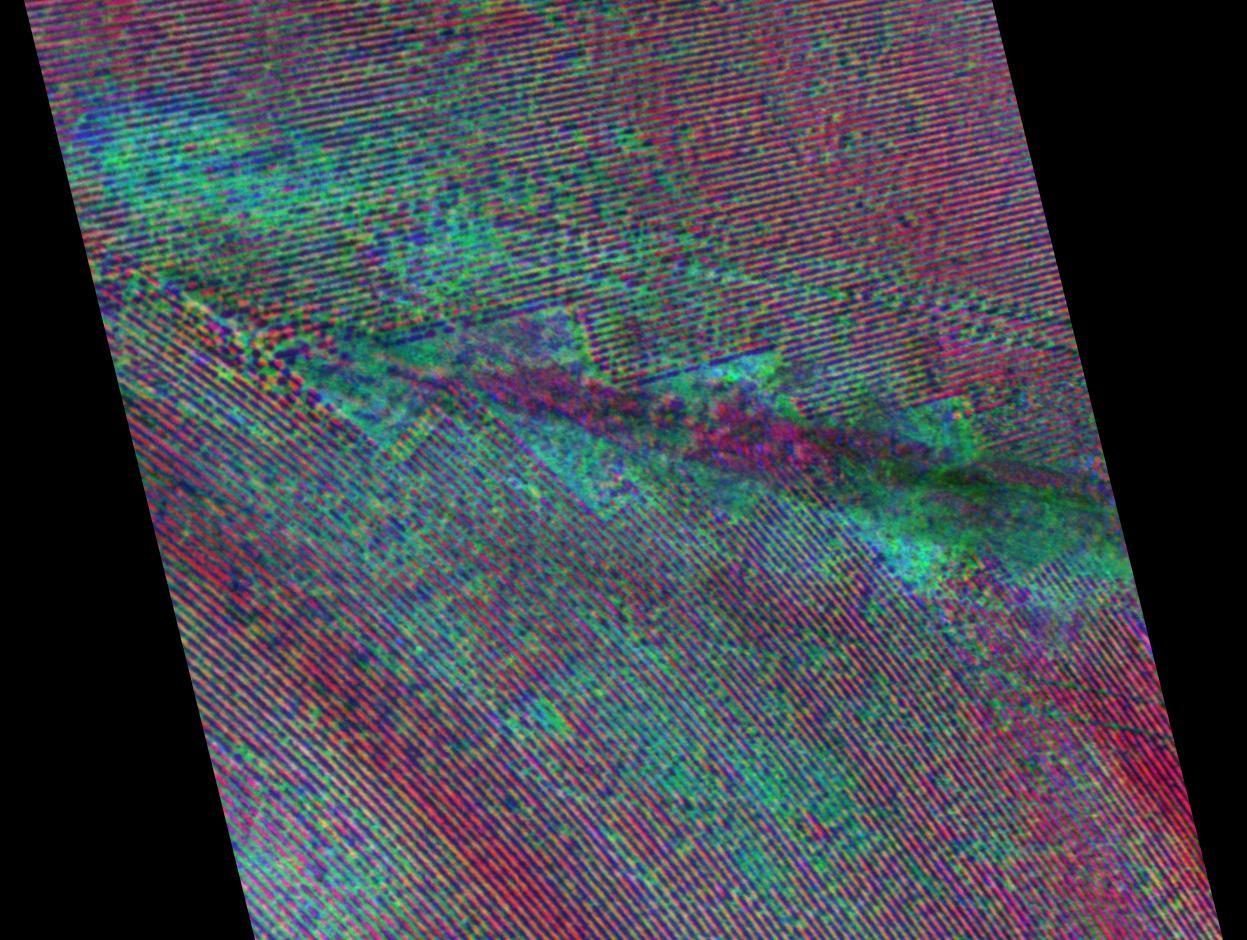dc: (83, 118, 167, 217), (311, 823, 387, 928), (293, 155, 362, 241), (536, 430, 603, 500), (881, 528, 949, 591), (186, 160, 250, 213), (923, 405, 968, 447)
